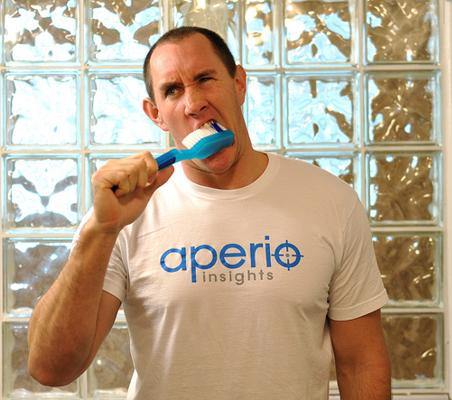person: (25, 28, 395, 400)
